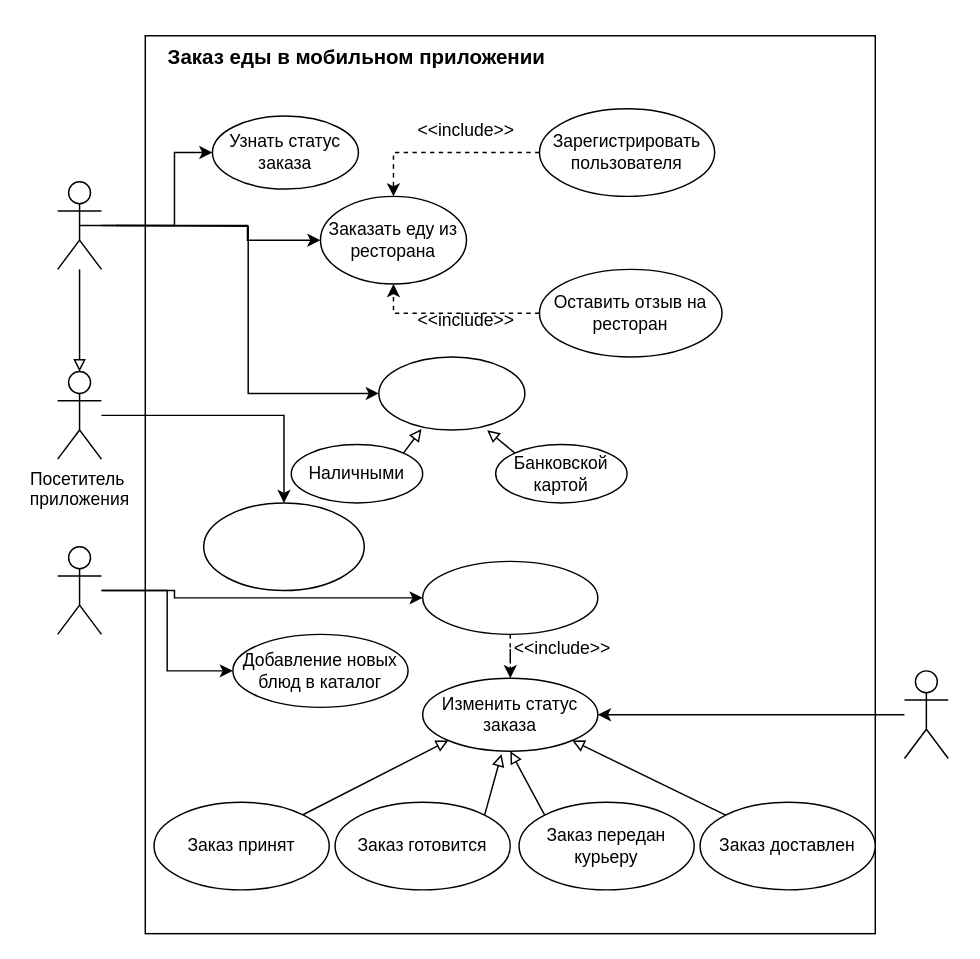
Image size: 980x959. Some labels were removed from this diagram. The shapes that lost their labels are listed below. From the top down, each one's centre as x and y in pixels, then its label:
(x=78, y=224): Заказчик еды
(x=451, y=393): Оплатить заказ
(x=283, y=546): Просмотр блюд из ресторана
(x=78, y=589): Ресторан
(x=509, y=597): Принять заказ от клиента
(x=925, y=713): Курьер
